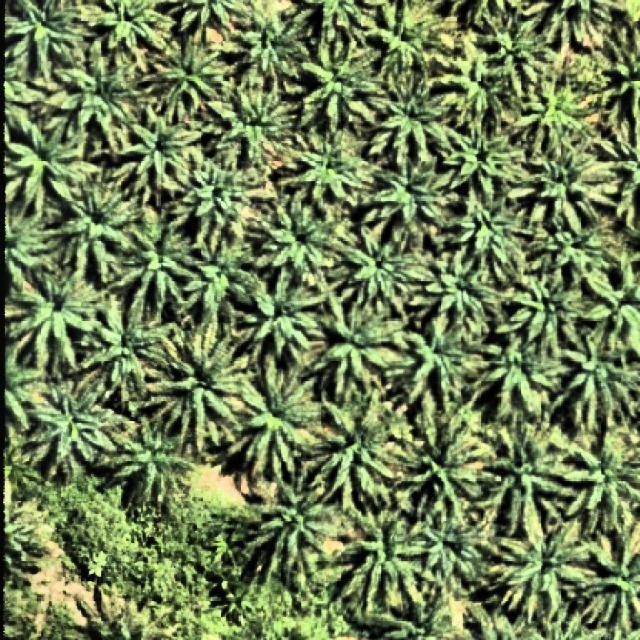Kelapa_Sawit: (139, 319, 261, 453), (225, 354, 330, 480), (23, 372, 142, 480), (496, 504, 598, 628), (476, 410, 576, 535), (242, 478, 352, 587), (395, 407, 497, 522), (305, 392, 403, 510), (340, 498, 438, 616), (80, 289, 180, 402), (310, 296, 415, 402), (514, 132, 618, 235), (359, 144, 464, 246), (10, 258, 107, 367), (549, 318, 640, 431), (106, 206, 196, 320), (51, 171, 144, 280), (51, 38, 146, 144), (99, 412, 199, 512), (204, 69, 302, 171), (430, 26, 528, 126), (336, 221, 438, 317), (232, 266, 331, 362), (292, 36, 386, 136), (170, 142, 258, 248), (364, 62, 458, 161), (140, 24, 232, 124), (474, 324, 574, 416), (402, 308, 486, 414), (278, 124, 382, 208), (561, 427, 640, 536), (435, 109, 528, 198), (474, 6, 562, 100), (499, 266, 587, 359), (227, 0, 309, 98), (119, 108, 208, 198), (411, 246, 507, 328), (178, 228, 255, 330), (452, 184, 526, 290), (421, 496, 494, 592), (509, 78, 588, 166), (255, 200, 342, 278), (527, 213, 615, 279)
